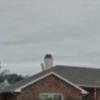chimneys: (42, 53, 53, 71)
